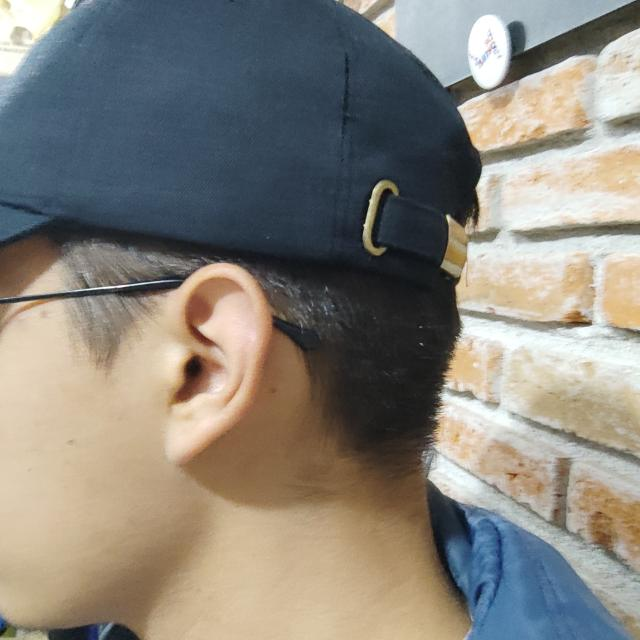ear: (159, 262, 272, 466)
